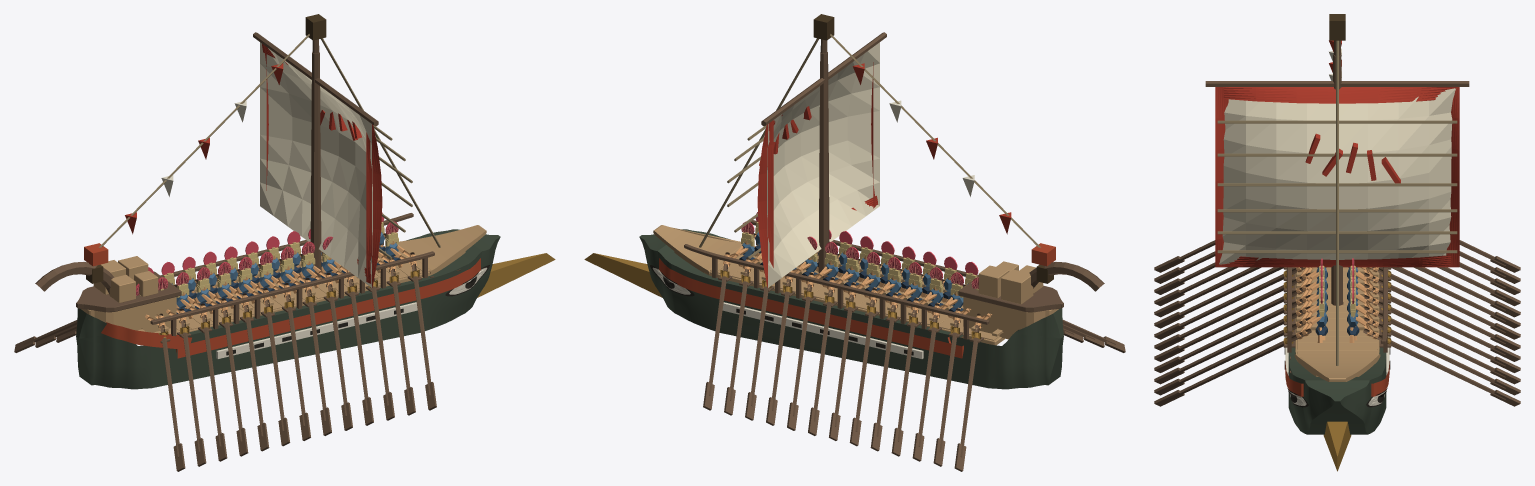
The model's file is warship-battle-v6.glb.
3 views of the same model, side by side, from view 1: azimuth 30°, elevation 25°; view 2: azimuth 150°, elevation 25°; view 3: azimuth 270°, elevation 25° (orthographic). The views are drawn at different scales.
Parts seen in each view (by area): view 1: sail, hull-low, n27, mast, n295, Bow transfer deck, n281, n253, n283, n31, hull-prow, n29 (+5 smaller); view 2: sail, hull-low, n3, mast, n293, n281, Bow transfer deck, n233, n7, n283, hull-prow, n289 (+7 smaller); view 3: sail, hull-low, n297, n299, n293, n295, n289, Bow transfer deck, n325, n301, n303, n305 (+27 smaller).
Boxes of the visible parts, x1=… form: sail: x1=260, y1=42, x2=372, y2=287; hull-low: x1=76, y1=229, x2=500, y2=389; n27: x1=176, y1=258, x2=480, y2=358; mast: x1=310, y1=52, x2=321, y2=276; n295: x1=366, y1=125, x2=382, y2=285; Bow transfer deck: x1=397, y1=225, x2=486, y2=274; n281: x1=81, y1=297, x2=176, y2=332; n253: x1=150, y1=251, x2=434, y2=324; n283: x1=76, y1=271, x2=181, y2=312; n31: x1=216, y1=302, x2=417, y2=358; hull-prow: x1=477, y1=253, x2=555, y2=297; n29: x1=101, y1=322, x2=191, y2=348; sail: x1=767, y1=42, x2=879, y2=287; hull-low: x1=639, y1=229, x2=1063, y2=389; n3: x1=659, y1=258, x2=963, y2=358; mast: x1=818, y1=52, x2=829, y2=278; n293: x1=757, y1=120, x2=773, y2=285; n281: x1=963, y1=297, x2=1058, y2=339; Bow transfer deck: x1=653, y1=225, x2=742, y2=274; n233: x1=684, y1=244, x2=989, y2=324; n7: x1=722, y1=302, x2=923, y2=358; n283: x1=958, y1=276, x2=1063, y2=312; hull-prow: x1=584, y1=253, x2=662, y2=297; n289: x1=761, y1=32, x2=886, y2=126; sail: x1=1219, y1=88, x2=1455, y2=264; hull-low: x1=1288, y1=285, x2=1386, y2=434; n297: x1=1223, y1=87, x2=1454, y2=103; n299: x1=1215, y1=255, x2=1451, y2=267; n293: x1=1446, y1=87, x2=1459, y2=267; n295: x1=1215, y1=87, x2=1228, y2=266; n289: x1=1205, y1=81, x2=1469, y2=86; Bow transfer deck: x1=1294, y1=354, x2=1380, y2=381; n325: x1=1336, y1=40, x2=1338, y2=365; n301: x1=1217, y1=250, x2=1457, y2=253; n303: x1=1217, y1=231, x2=1457, y2=234; n305: x1=1217, y1=209, x2=1457, y2=212.
Bounding box in the file's own units: 6.7 × 4.2 × 3.75.
